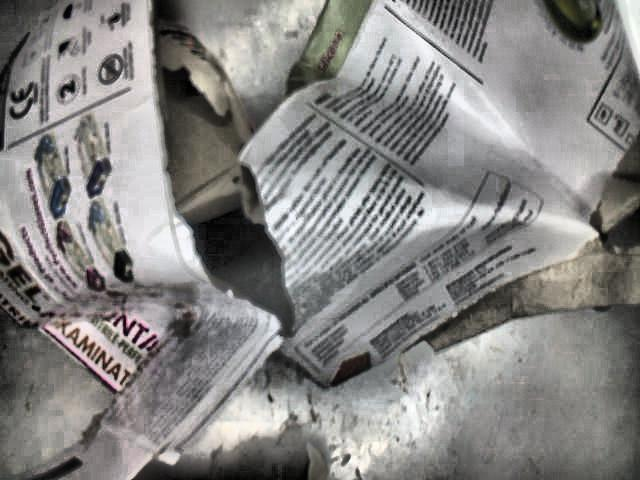Paper: (0, 0, 640, 480), (305, 444, 329, 474)
